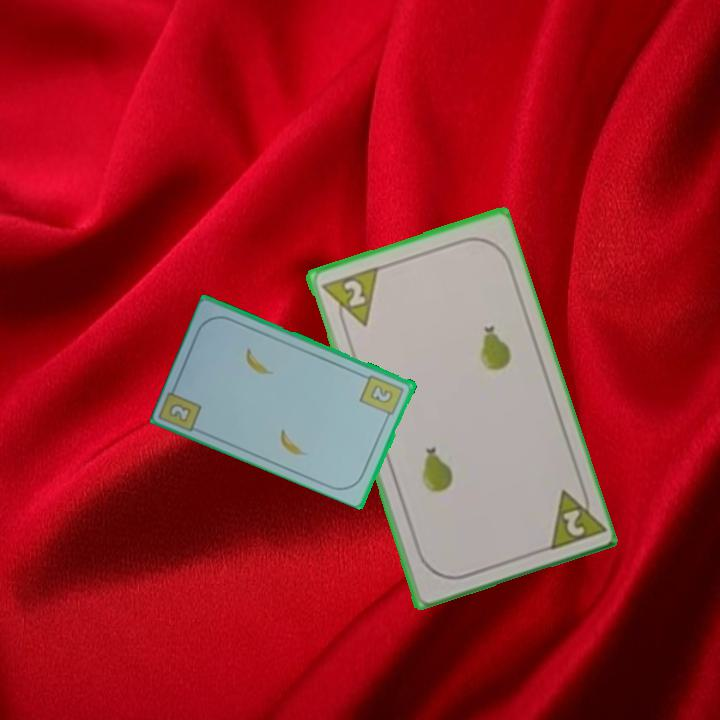2b: (357, 371, 407, 423), (166, 400, 195, 425)
2p: (317, 263, 381, 335), (542, 480, 605, 553)
